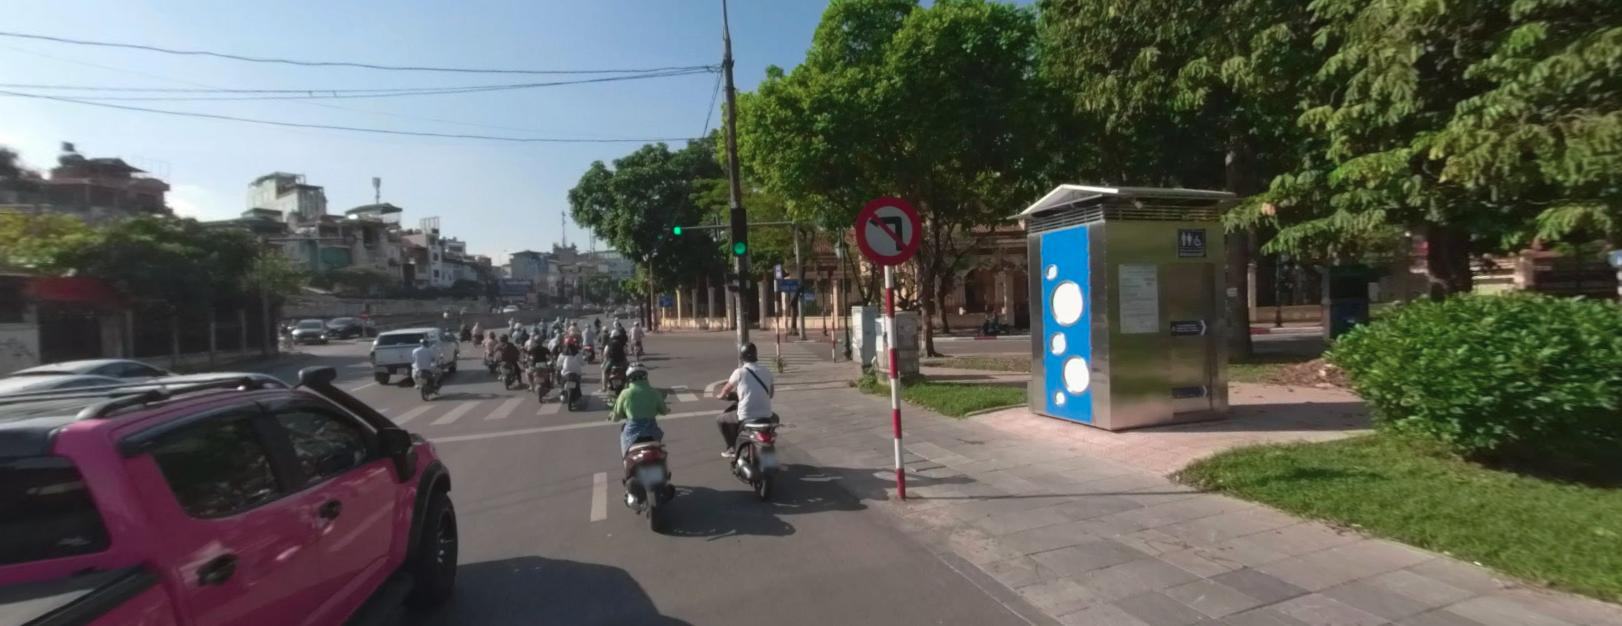Cam nguoc chieu: (360, 310, 367, 317)
Cam re: (857, 195, 920, 263)
